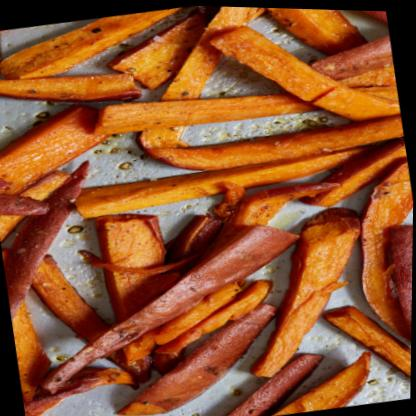sweetpotato: (233, 184, 397, 385), (195, 5, 402, 145), (115, 90, 406, 188), (82, 197, 194, 381), (0, 46, 137, 131)
